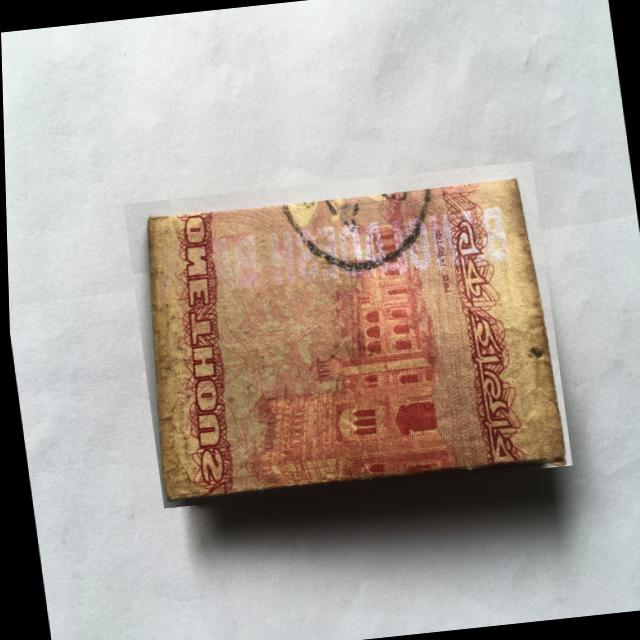Taka: (120, 160, 570, 508)
